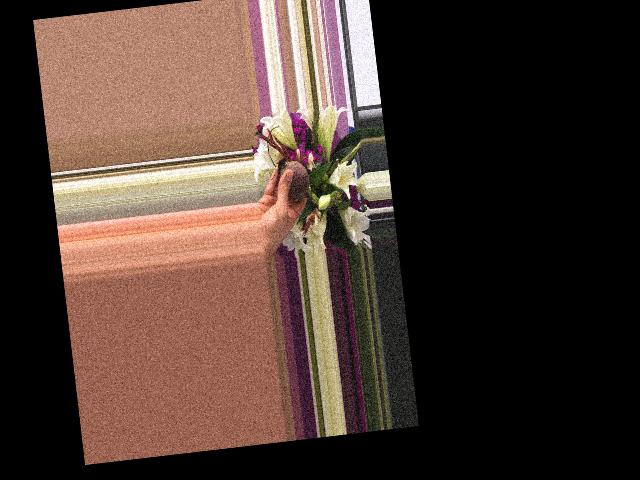beet: (276, 154, 319, 211)
